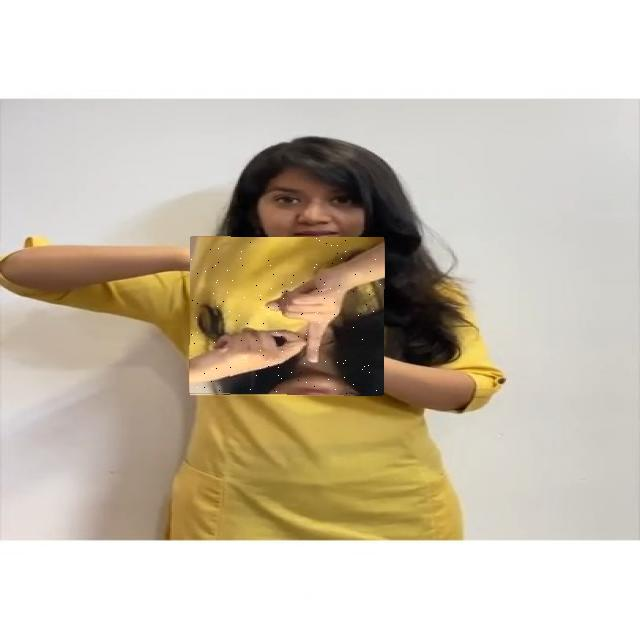K: (190, 237, 384, 396)
